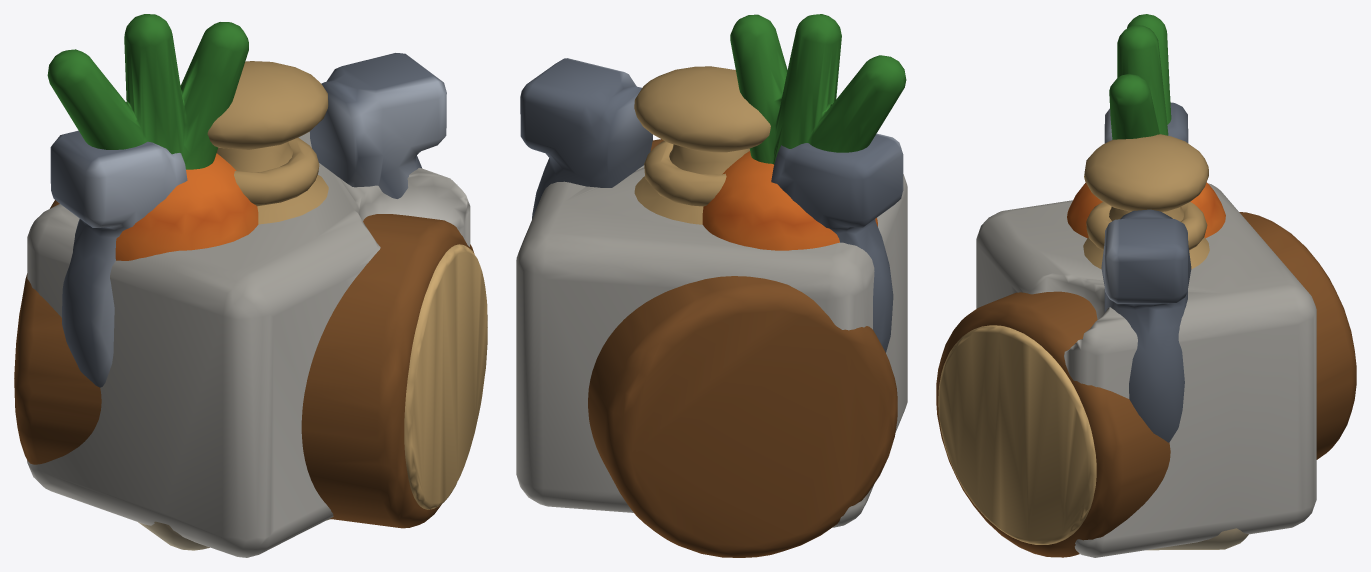
The model's file is icons.glb.
The picture shows the model from 3 angles, left to right: view 1: azimuth 30°, elevation 25°; view 2: azimuth 150°, elevation 25°; view 3: azimuth 270°, elevation 25°; orthographic projection. The views are drawn at different scales.
Visible parts, largest first — view 1: stone, wood, metal, food, power; view 2: wood, stone, metal, food, power; view 3: stone, wood, metal, power, food.
Boxes of the visible parts, x1=… form: stone: x1=27, y1=132, x2=470, y2=557; wood: x1=14, y1=200, x2=487, y2=528; metal: x1=50, y1=53, x2=446, y2=387; food: x1=47, y1=14, x2=258, y2=260; power: x1=138, y1=61, x2=330, y2=550; wood: x1=588, y1=139, x2=897, y2=557; stone: x1=516, y1=165, x2=907, y2=527; metal: x1=520, y1=58, x2=903, y2=352; food: x1=702, y1=14, x2=906, y2=250; power: x1=634, y1=66, x2=770, y2=224; stone: x1=976, y1=183, x2=1316, y2=557; wood: x1=936, y1=212, x2=1356, y2=557; metal: x1=1101, y1=102, x2=1191, y2=442; power: x1=1083, y1=134, x2=1248, y2=550; food: x1=1067, y1=14, x2=1225, y2=238.
Size of the model in its own units: 0.9993 by 1.17 by 1.01.
